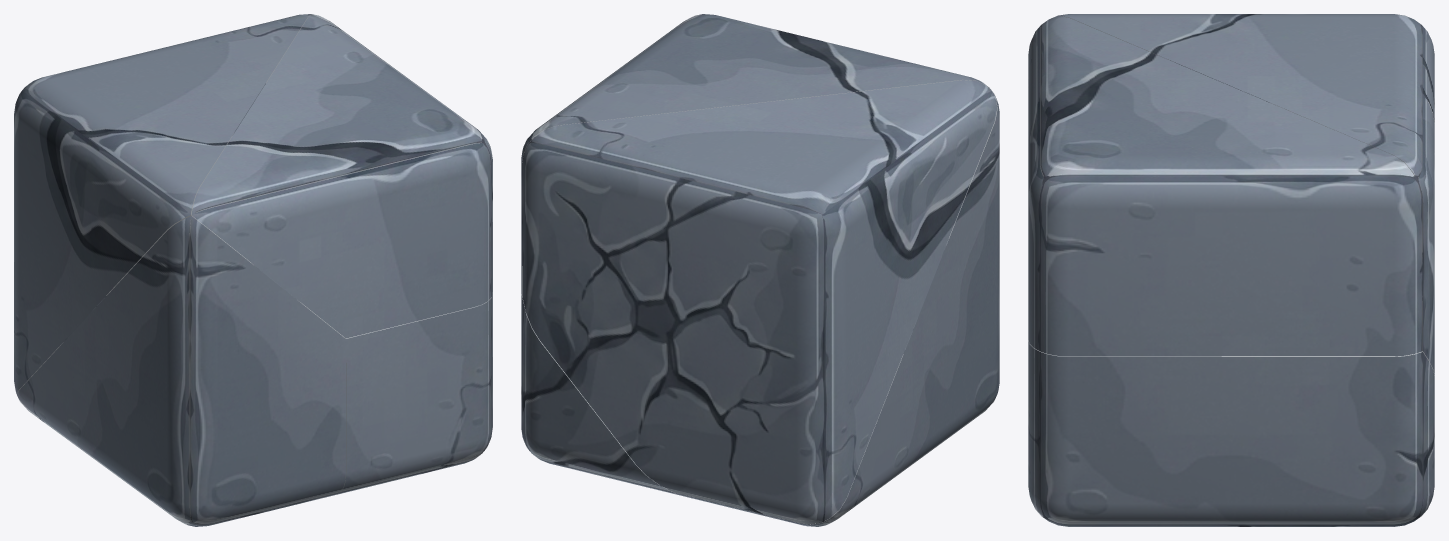
File: CrystalRock4Pieces.fbx
3 renders of one model, left to right at view 1: azimuth 30°, elevation 25°; view 2: azimuth 150°, elevation 25°; view 3: azimuth 270°, elevation 25°, orthographic. The views are drawn at different scales.
Parts seen in each view (by area): view 1: Cube_cell.003, Cube_cell.002, Cube_cell.001, Cube_cell; view 2: Cube_cell.001, Cube_cell.003, Cube_cell.002, Cube_cell; view 3: Cube_cell.002, Cube_cell, Cube_cell.001.
Part boxes in pixels (box(x1,y1,x2,y2)): Cube_cell.003: box(17, 216, 345, 526); Cube_cell.002: box(191, 14, 492, 338); Cube_cell.001: box(14, 14, 311, 394); Cube_cell: box(337, 294, 492, 494); Cube_cell.001: box(522, 80, 997, 524); Cube_cell.003: box(674, 93, 999, 526); Cube_cell.002: box(521, 14, 990, 296); Cube_cell: box(521, 294, 676, 494); Cube_cell.002: box(1028, 16, 1422, 356); Cube_cell: box(1028, 340, 1434, 526); Cube_cell.001: box(1056, 14, 1434, 375).
Size of the model in its own units: 2 by 2 by 2.
1 material, 1 textured.
